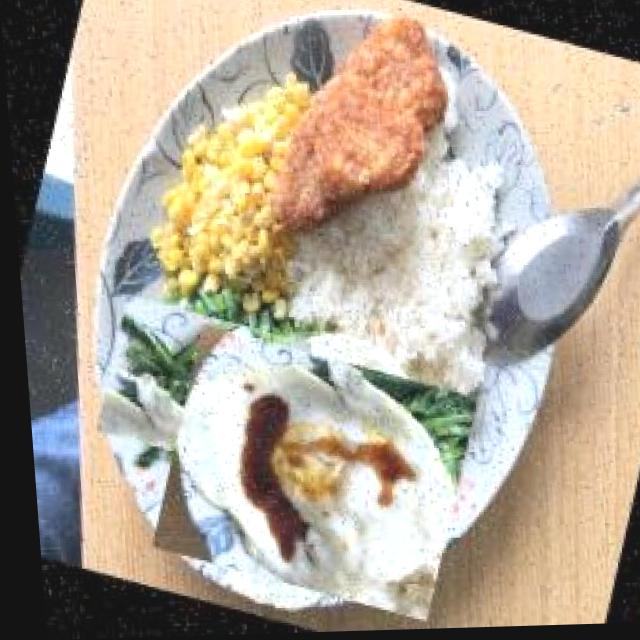fried_eggs: (137, 310, 478, 637)
rice: (289, 138, 525, 376)
triangle_hash_brown: (248, 0, 477, 269)
water_spinach: (90, 281, 307, 493)
